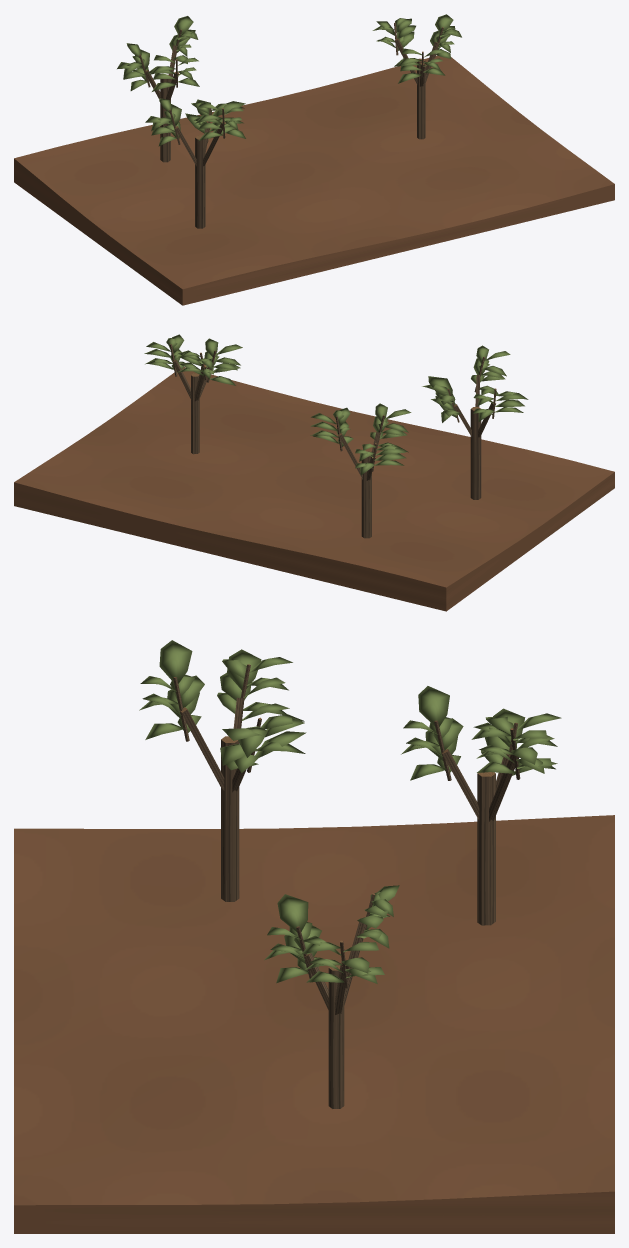
Rendered from kathmandu.glb.
3 renders of one model, top to bottom at view 1: azimuth 30°, elevation 25°; view 2: azimuth 150°, elevation 25°; view 3: azimuth 270°, elevation 25°, orthographic. The views are drawn at different scales.
Visible parts, largest first — view 1: kathmandu; view 2: kathmandu; view 3: kathmandu.
Part boxes in pixels (x1=…): kathmandu: x1=14, y1=14, x2=614, y2=305; kathmandu: x1=14, y1=334, x2=614, y2=611; kathmandu: x1=14, y1=640, x2=614, y2=1233.
Bounding box in the file's own units: 7.7 × 2.58 × 5.2.
1 material, 1 textured.
